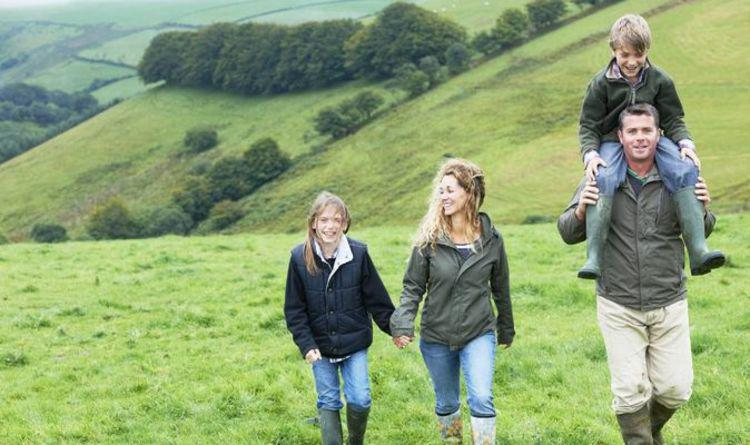Person: (555, 98, 728, 445), (565, 10, 736, 293), (387, 148, 528, 445), (272, 183, 407, 443)
